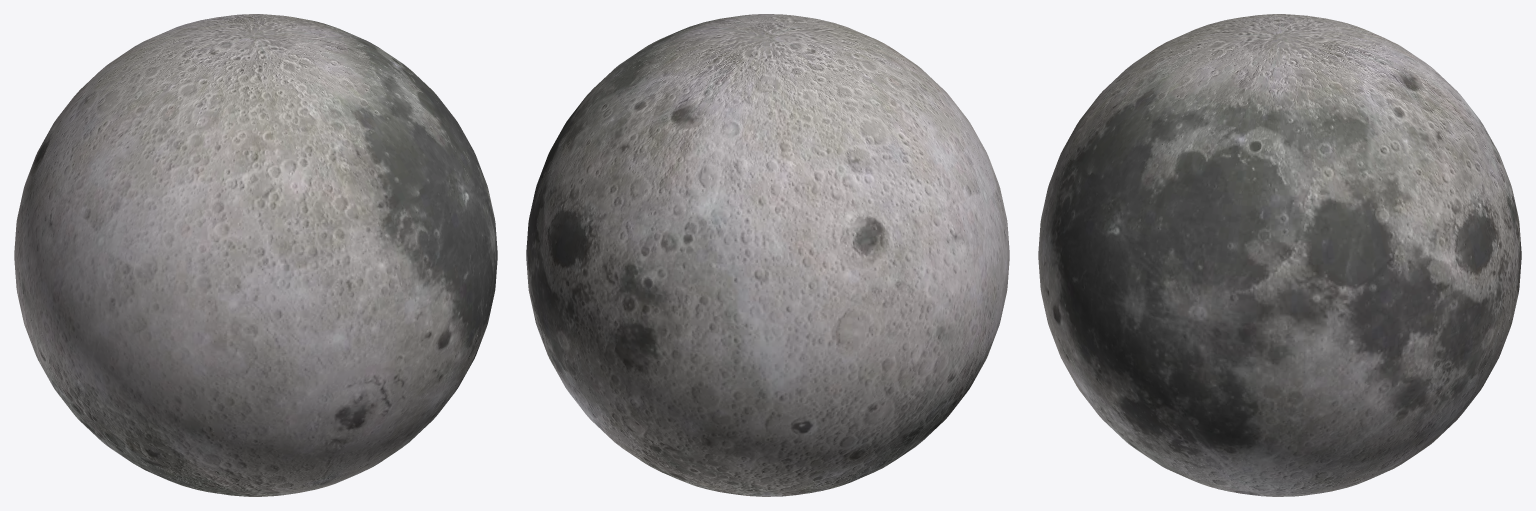
Rendered from moon_quest.glb.
3 renders of one model, left to right at view 1: azimuth 30°, elevation 25°; view 2: azimuth 150°, elevation 25°; view 3: azimuth 270°, elevation 25°, orthographic.
Visible parts, largest first — view 1: Sphere_Material.002_0; view 2: Sphere_Material.002_0; view 3: Sphere_Material.002_0.
Part boxes in pixels (x1=…): Sphere_Material.002_0: x1=14, y1=14, x2=497, y2=496; Sphere_Material.002_0: x1=526, y1=14, x2=1009, y2=496; Sphere_Material.002_0: x1=1038, y1=14, x2=1521, y2=496.
Bounding box in the file's own units: 200 × 200 × 200.
1 material, 1 textured.
